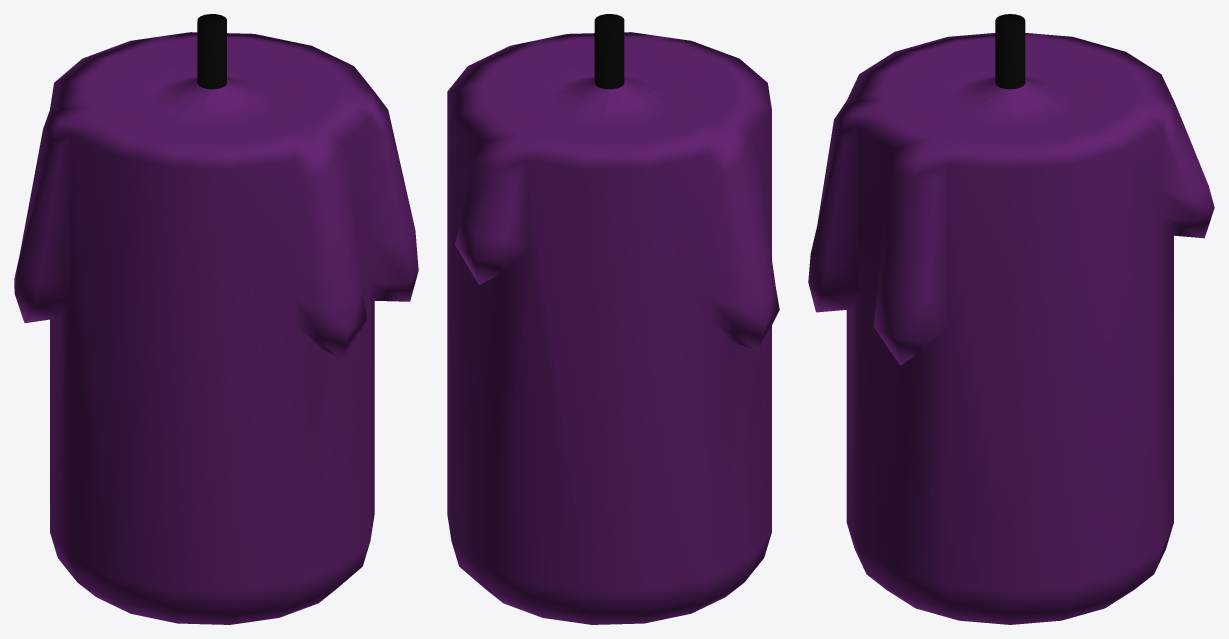
Rendered from TableDecor_02_Goth.glb.
The picture shows the model from 3 angles, left to right: view 1: azimuth 30°, elevation 25°; view 2: azimuth 150°, elevation 25°; view 3: azimuth 270°, elevation 25°; orthographic projection.
Visible parts, largest first — view 1: TableDecor_02_Goth; view 2: TableDecor_02_Goth; view 3: TableDecor_02_Goth.
Part boxes in pixels (bbox=[...]): TableDecor_02_Goth: bbox=[14, 14, 418, 624]; TableDecor_02_Goth: bbox=[447, 14, 779, 624]; TableDecor_02_Goth: bbox=[808, 14, 1214, 624].
Bounding box in the file's own units: 0.078 × 0.1235 × 0.0819.
Materials: 1 (1 with a texture image).
